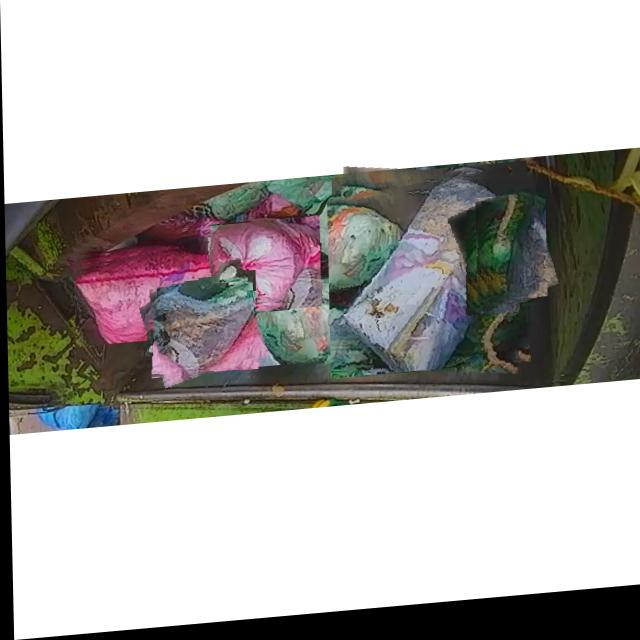general_trashbag: (248, 282, 408, 367), (475, 204, 532, 311)
other_trashbag: (328, 184, 520, 379), (73, 252, 217, 345), (146, 285, 251, 379), (210, 226, 317, 308)
